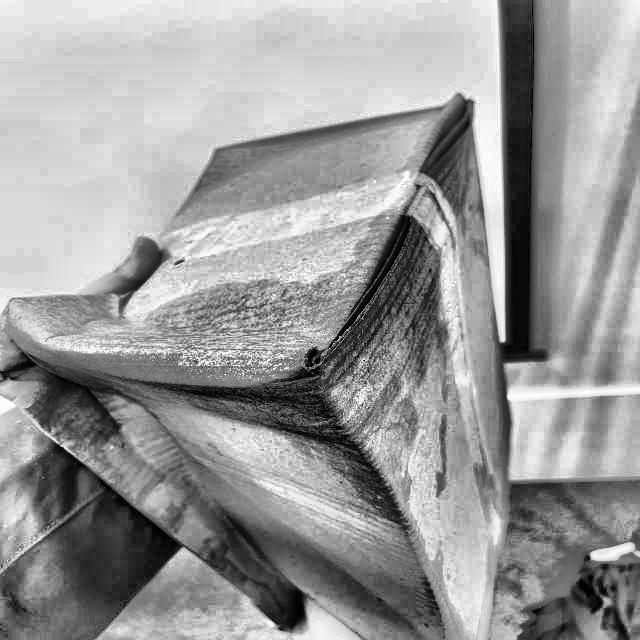box: (0, 89, 517, 639)
wet: (44, 269, 476, 434)
